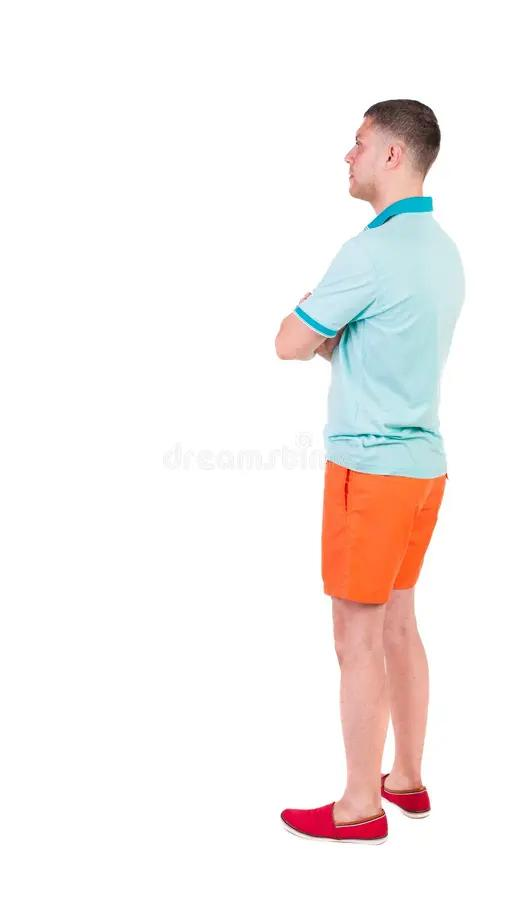Shorts: (316, 457, 450, 607)
short sleeve shirt: (290, 192, 467, 480)
